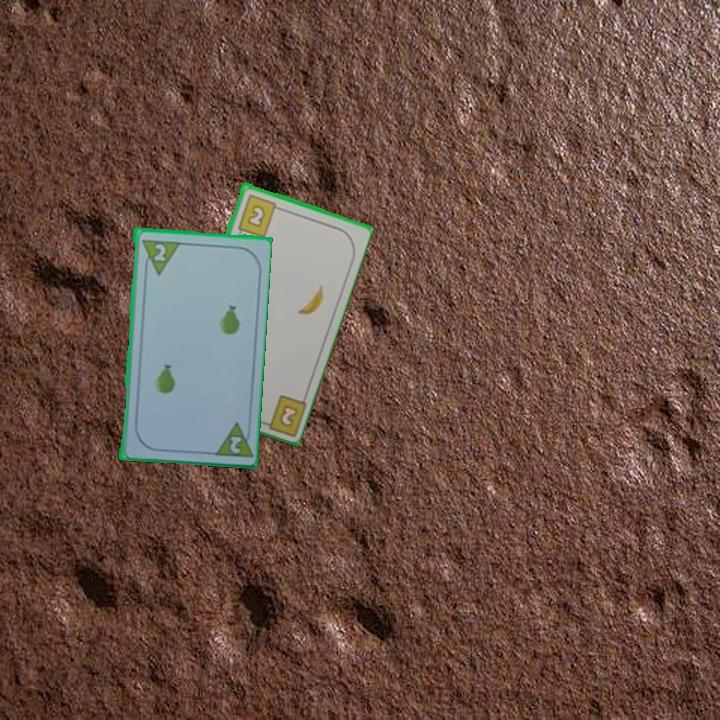2b: (234, 191, 284, 240), (276, 401, 300, 430)
2p: (150, 240, 169, 264), (226, 432, 244, 456)
